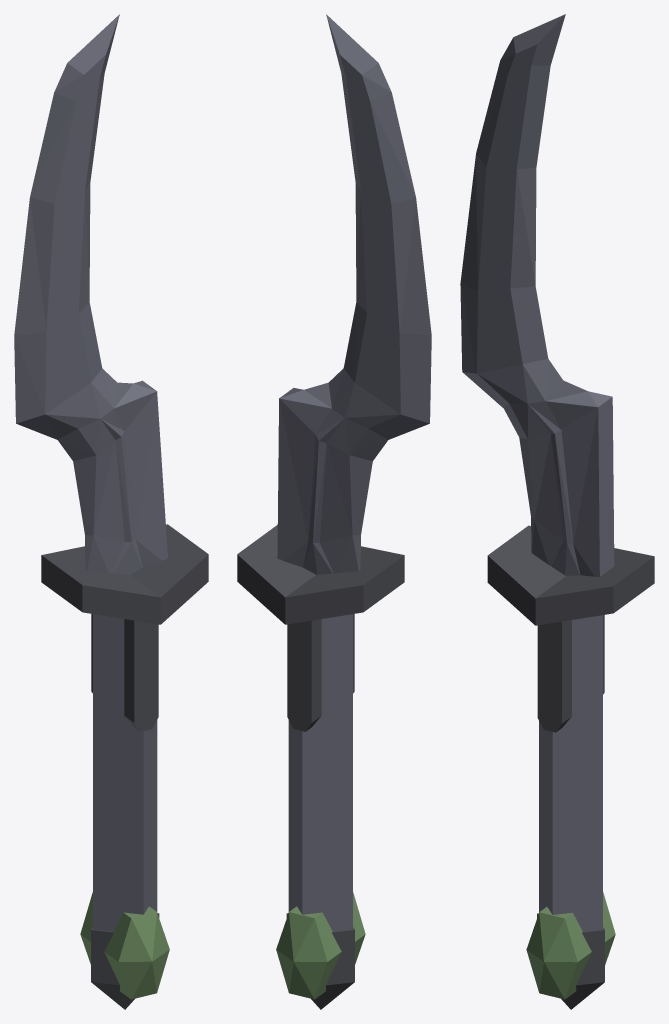
Rendered from dagger_dagger_9.glb.
The picture shows the model from 3 angles, left to right: view 1: azimuth 30°, elevation 25°; view 2: azimuth 150°, elevation 25°; view 3: azimuth 330°, elevation 25°; orthographic projection.
Visible parts, largest first — view 1: dagger_9; view 2: dagger_9; view 3: dagger_9.
Boxes of the visible parts, x1,y1,x2,y2 form: dagger_9: [14, 14, 208, 1009]; dagger_9: [237, 14, 431, 1009]; dagger_9: [460, 14, 654, 1009].
Size of the model in its own units: 8.41 by 46.05 by 5.97.
1 material, 1 textured.
